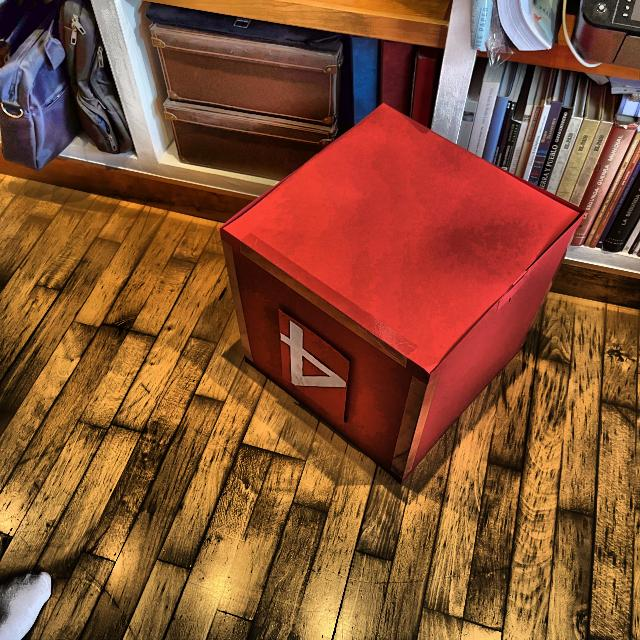four: (276, 316, 351, 391)
red box: (226, 100, 582, 484)
